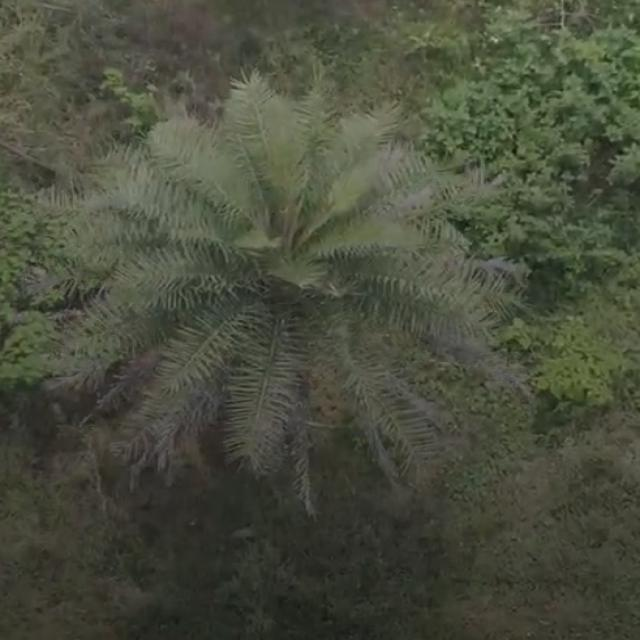notMangoTree: (45, 74, 526, 510), (425, 4, 640, 290)
